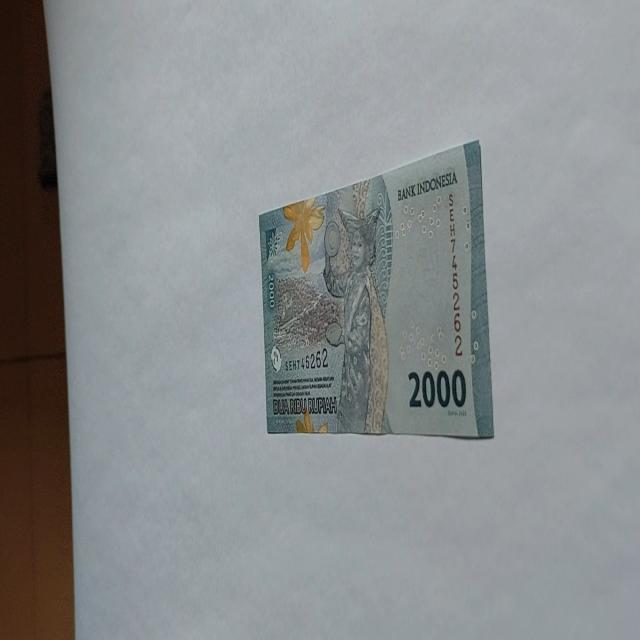dua ribu rupiah: (258, 138, 494, 440), (322, 202, 390, 434)
